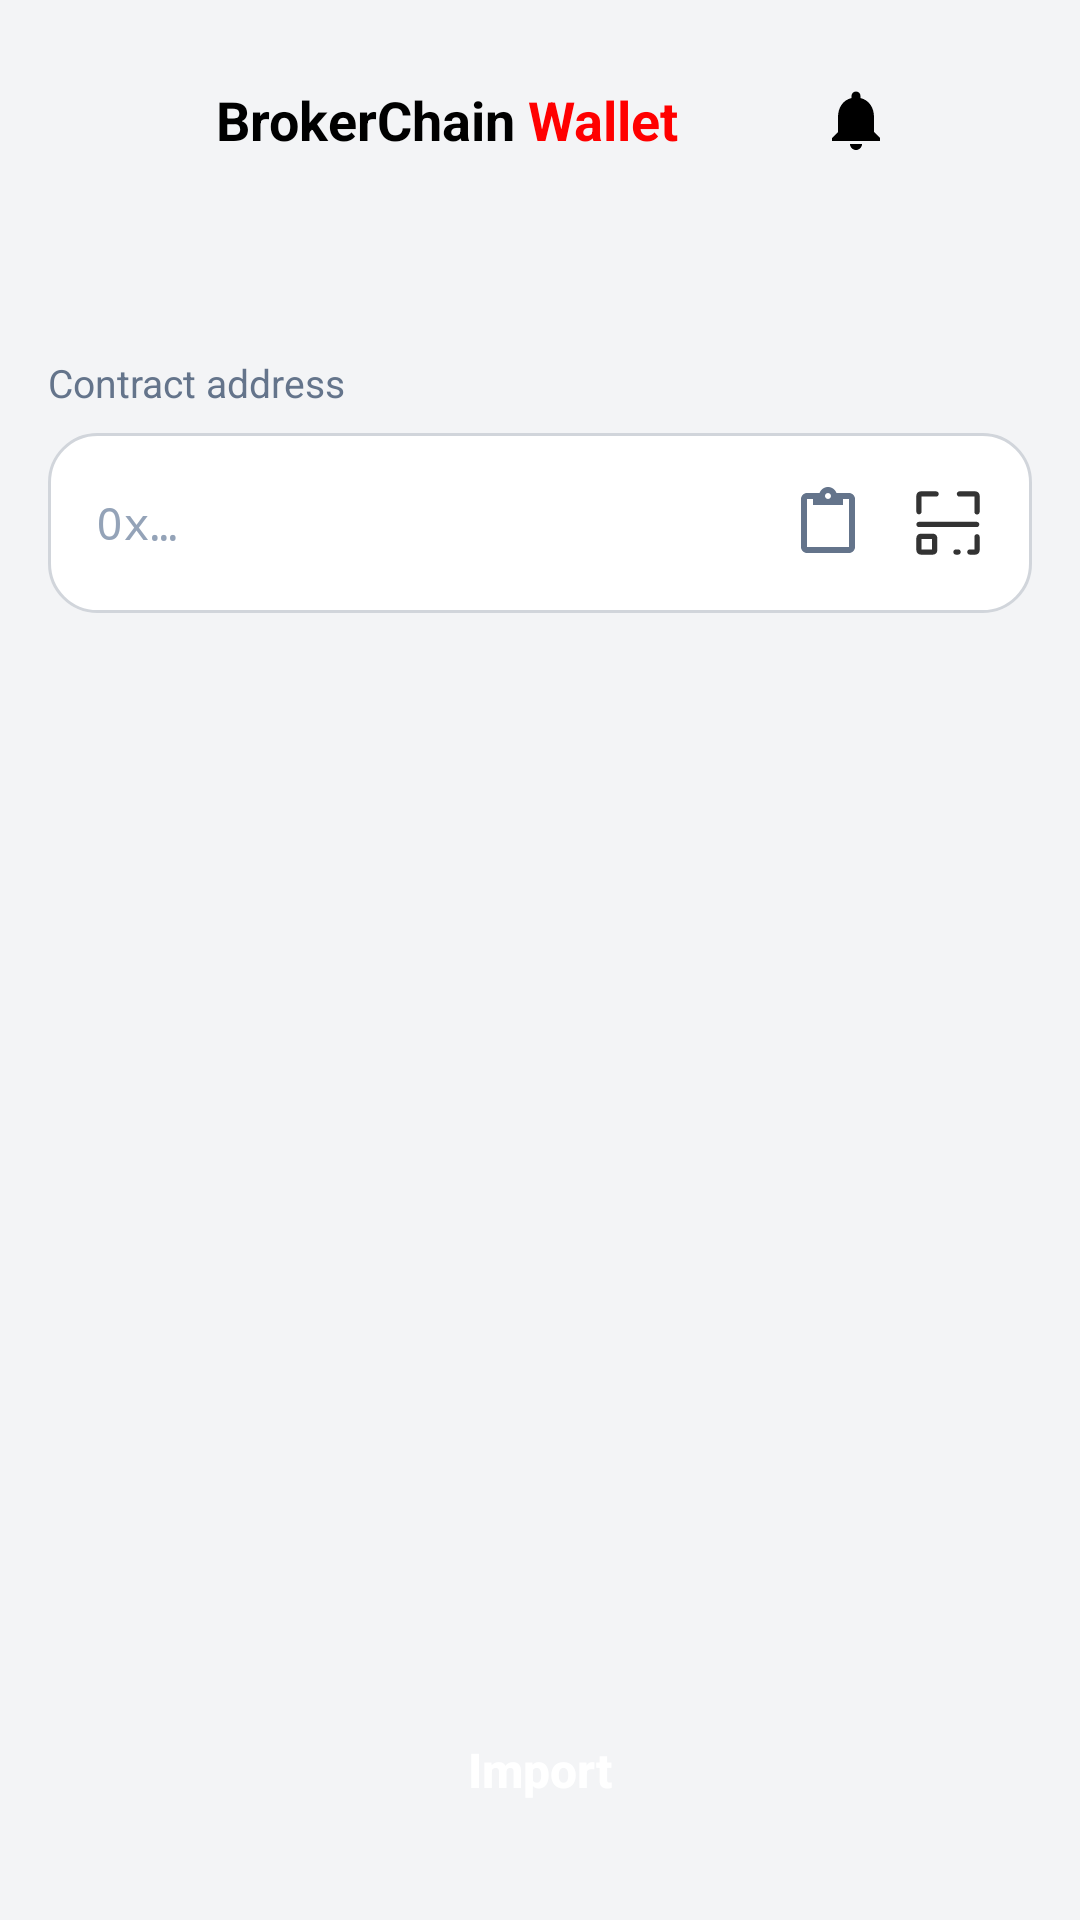

Locate icon controls on the screen. Image size 1080*1920, boxes as (x1, y1, x2, y2).
Notifications: (832, 91, 880, 150)
Paste: (801, 487, 855, 553)
Scan QR code: (916, 491, 980, 555)
